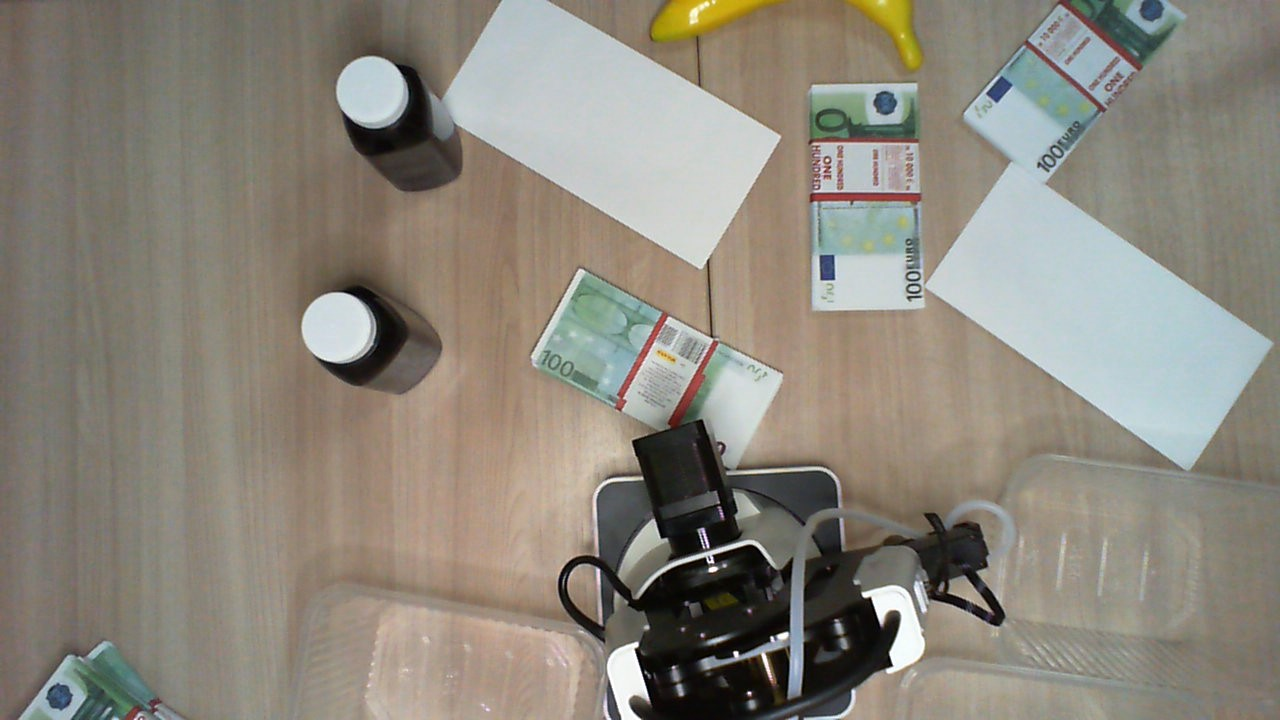banana: (642, 1, 932, 69)
bottle: (300, 286, 415, 389), (336, 57, 432, 154)
convert: (926, 161, 1275, 475), (438, 1, 781, 270)
money: (532, 277, 792, 474), (965, 1, 1184, 176), (811, 80, 916, 314), (17, 639, 179, 720)
